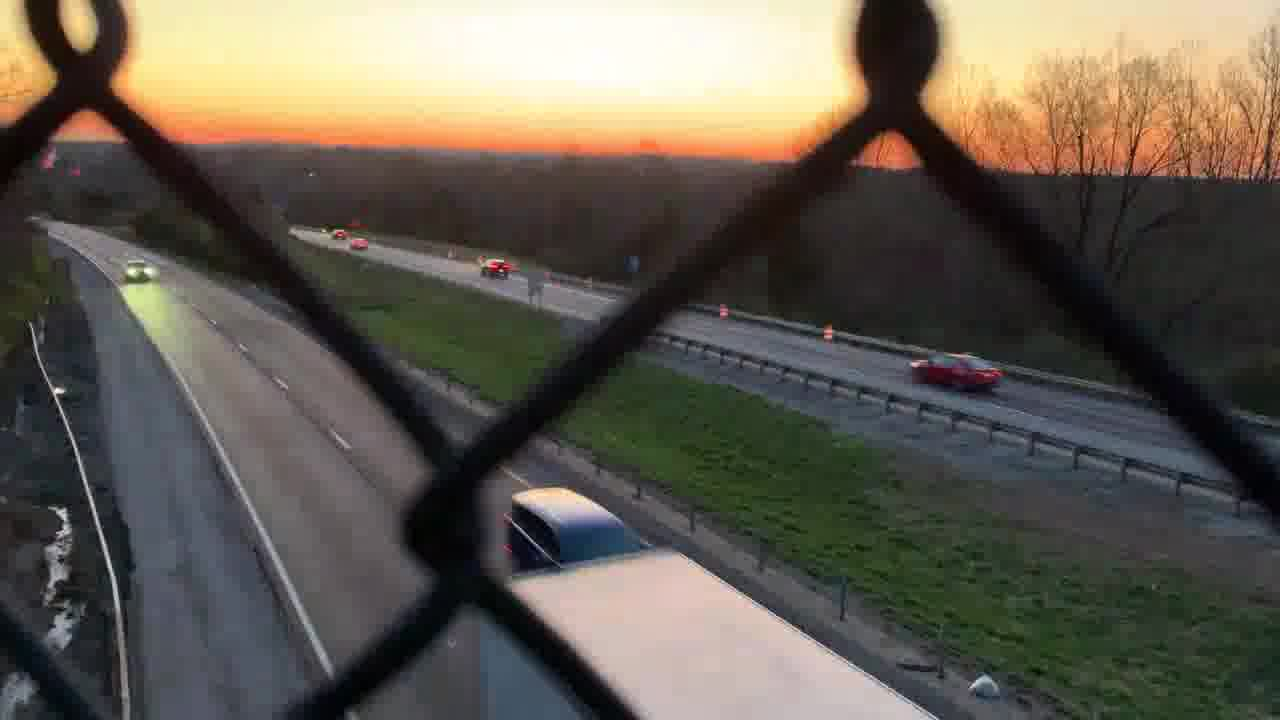smallCar: (906, 349, 1002, 391)
